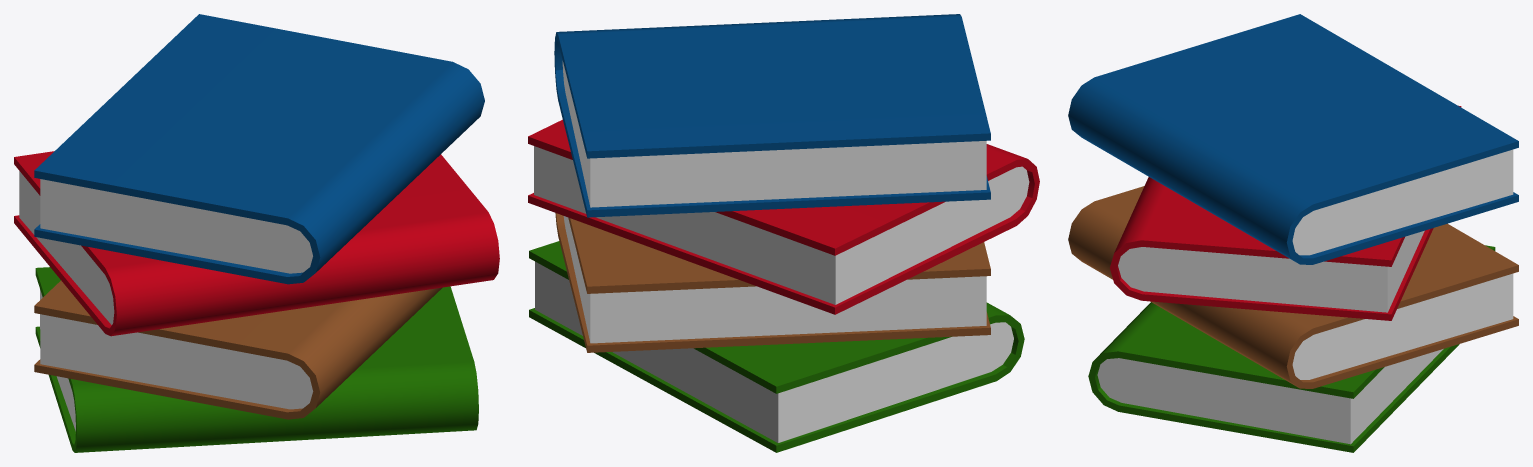
File: Book_Pile_4.fbx
The picture shows the model from 3 angles, left to right: view 1: azimuth 30°, elevation 25°; view 2: azimuth 150°, elevation 25°; view 3: azimuth 270°, elevation 25°; orthographic projection. The views are drawn at different scales.
Visible parts, largest first — view 1: Book_Pile_4; view 2: Book_Pile_4; view 3: Book_Pile_4.
Boxes of the visible parts, x1,y1,x2,y2 form: Book_Pile_4: [14, 14, 499, 452]; Book_Pile_4: [528, 14, 1039, 452]; Book_Pile_4: [1068, 14, 1518, 452].
Bounding box in the file's own units: 0.019 × 0.011 × 0.0183.
